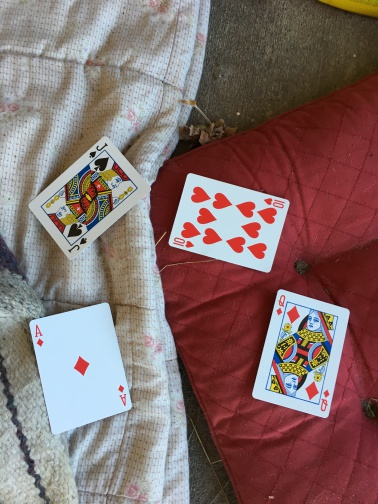ace: (28, 302, 133, 434)
jack: (28, 136, 151, 259)
queen: (252, 288, 351, 418)
ten: (168, 172, 290, 273)
